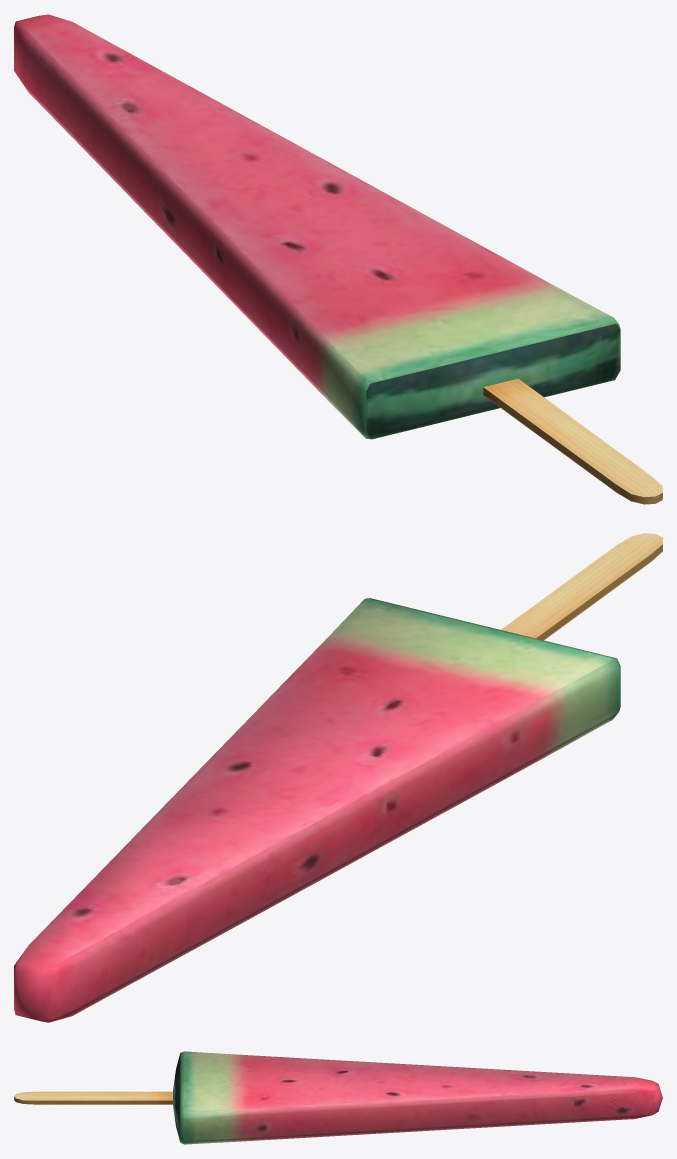
Rendered from sword_suikaber_suikaber.glb.
3 renders of one model, top to bottom at view 1: azimuth 30°, elevation 25°; view 2: azimuth 150°, elevation 25°; view 3: azimuth 270°, elevation 25°, orthographic. The views are drawn at different scales.
Size of the model in its own units: 0.3379 by 0.0751 by 1.42.
Materials: 1 (1 with a texture image).
